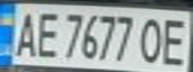6: (78, 10, 100, 61)
7: (57, 9, 84, 60), (115, 11, 139, 63), (97, 11, 118, 61)
A: (9, 7, 39, 60)
E: (157, 14, 193, 68), (33, 8, 60, 60)
O: (136, 14, 169, 65)
